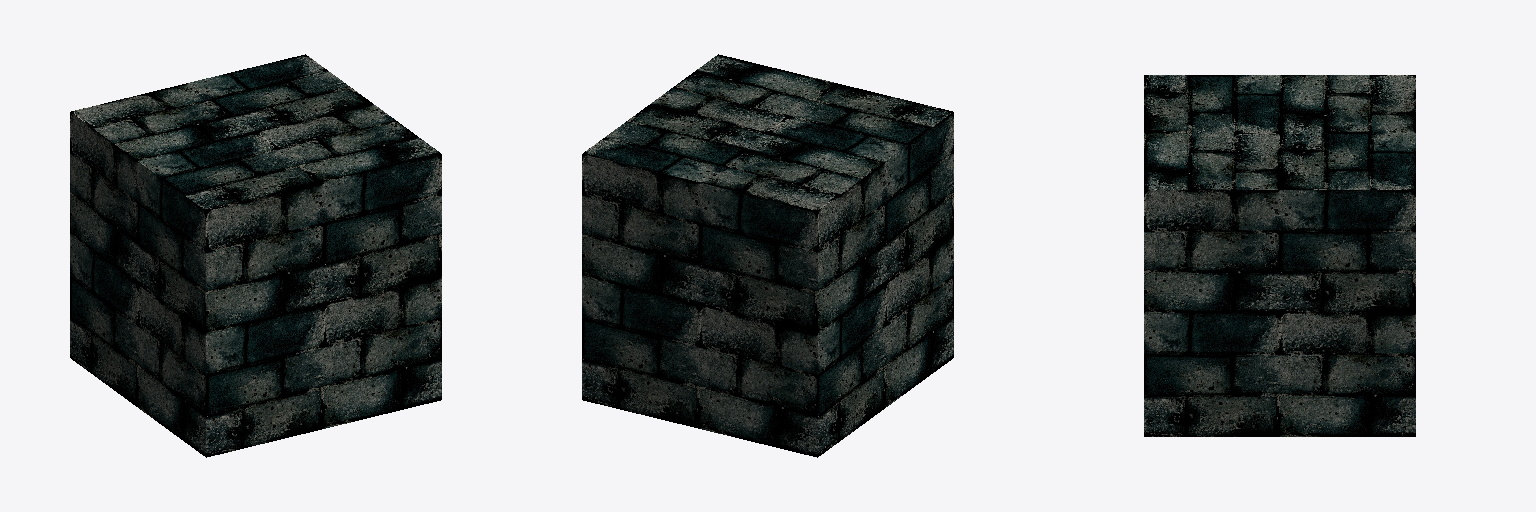
3 renders of one model, left to right at view 1: azimuth 30°, elevation 25°; view 2: azimuth 150°, elevation 25°; view 3: azimuth 270°, elevation 25°, orthographic.
Visible parts, largest first — view 1: Cube; view 2: Cube; view 3: Cube.
Boxes of the visible parts, box(x1,y1,x2,y2) form: Cube: box(70, 54, 441, 457); Cube: box(582, 54, 953, 457); Cube: box(1144, 75, 1415, 436).
Bounding box in the file's own units: 2 × 2 × 2.
Materials: 1 (1 with a texture image).